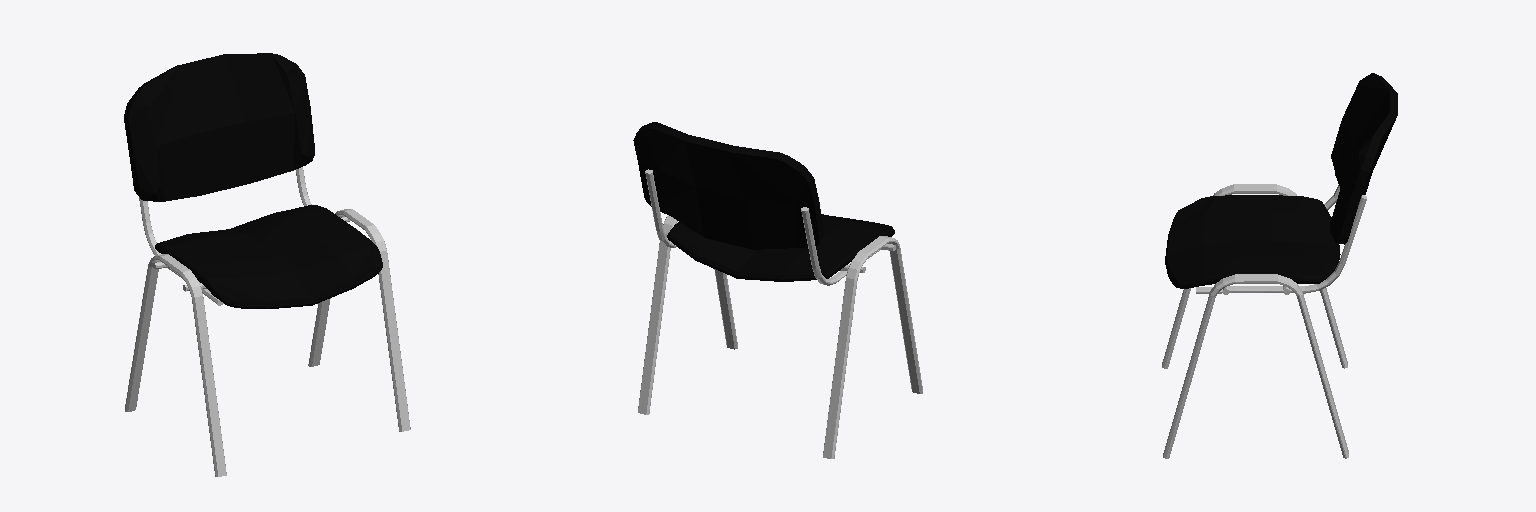
File: chair.obj
3 views of the same model, side by side, from view 1: azimuth 30°, elevation 25°; view 2: azimuth 150°, elevation 25°; view 3: azimuth 270°, elevation 25° (orthographic).
Visible parts, largest first — view 1: chair_Mesh, Object001_Mesh.001; view 2: chair_Mesh, Object001_Mesh.001; view 3: chair_Mesh, Object001_Mesh.001.
Part boxes in pixels (x1,y1,x2,y2): chair_Mesh: (124, 53, 382, 308); Object001_Mesh.001: (125, 167, 410, 476); chair_Mesh: (633, 122, 894, 281); Object001_Mesh.001: (638, 169, 922, 458); chair_Mesh: (1165, 73, 1397, 288); Object001_Mesh.001: (1162, 184, 1366, 458).
Size of the model in its own units: 0.5324 by 0.7998 by 0.5487.